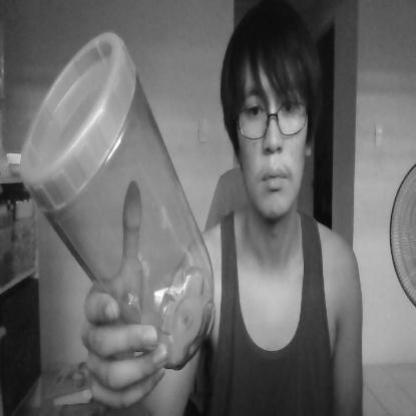Plastic Bottle: (19, 19, 217, 375)
